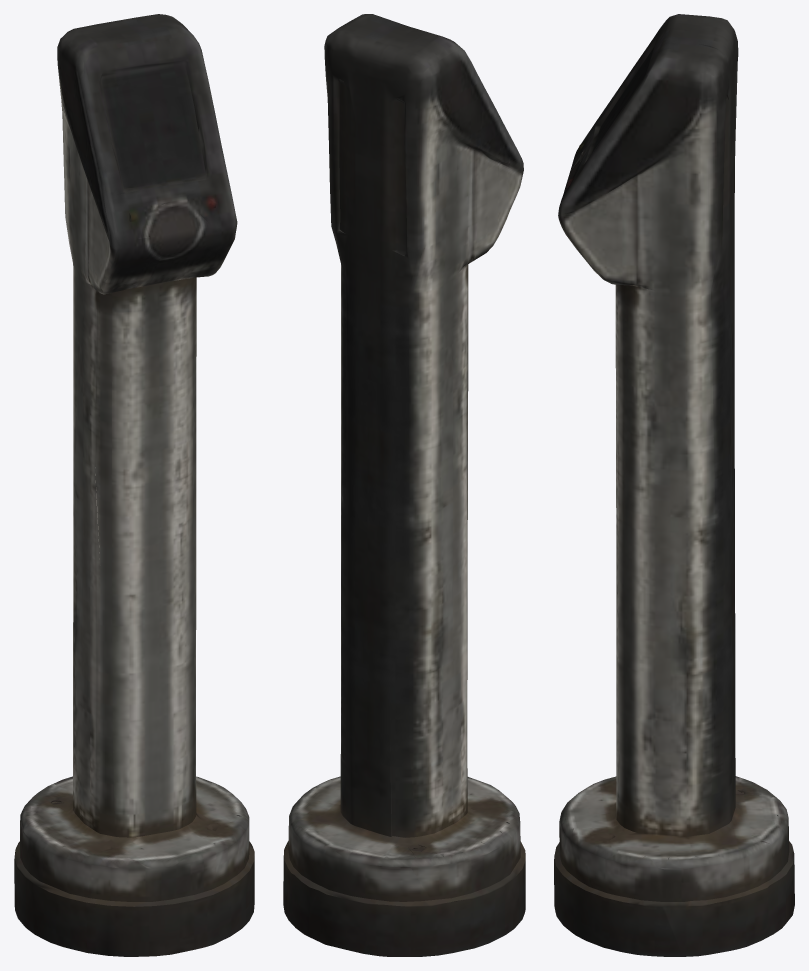
File: p7-fare-validator-stand.glb
3 renders of one model, left to right at view 1: azimuth 30°, elevation 25°; view 2: azimuth 150°, elevation 25°; view 3: azimuth 270°, elevation 25°, orthographic.
Visible parts, largest first — view 1: p7-fare-validator-stand; view 2: p7-fare-validator-stand; view 3: p7-fare-validator-stand.
Boxes of the visible parts, box(x1,y1,x2,y2) form: p7-fare-validator-stand: box(14, 14, 254, 956); p7-fare-validator-stand: box(283, 14, 525, 956); p7-fare-validator-stand: box(554, 14, 794, 956).
Bounding box in the file's own units: 0.3 × 1.2 × 0.3.
1 material, 1 textured.
